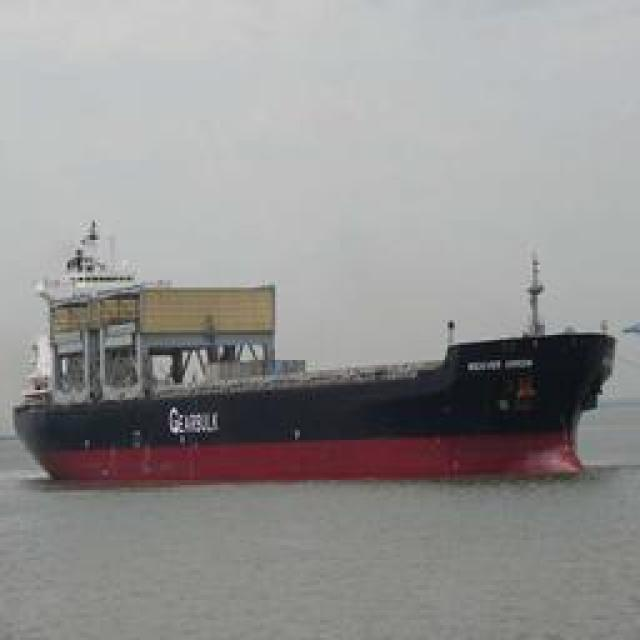CIV_Ship: (6, 268, 626, 482)
